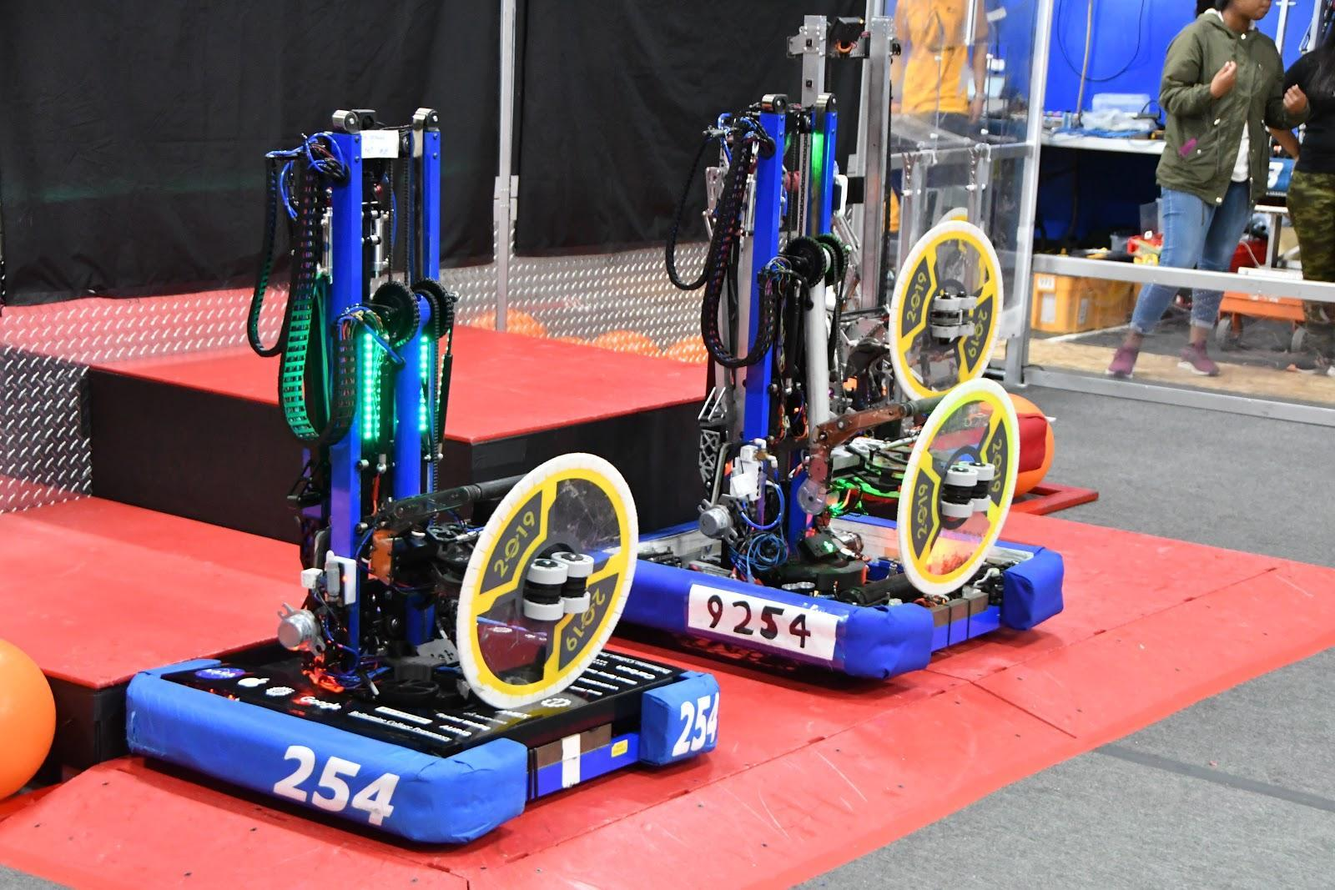robot: (117, 100, 728, 853)
